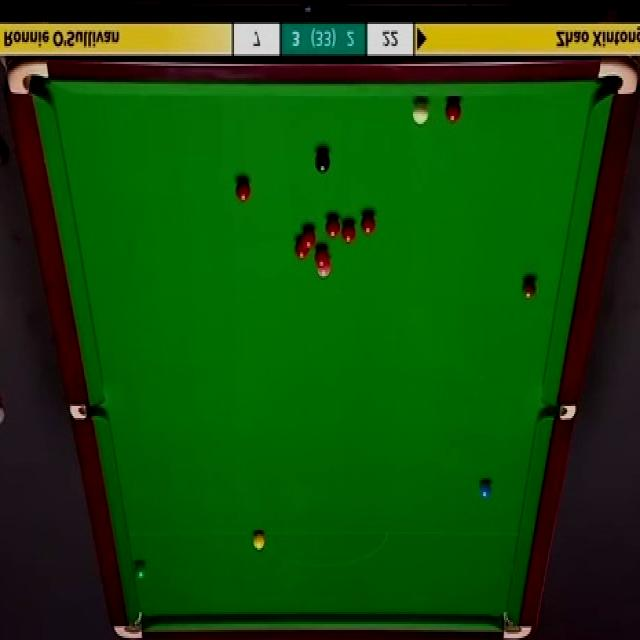pocket: (5, 58, 52, 97), (595, 58, 637, 97), (500, 608, 532, 640), (112, 611, 147, 640), (540, 403, 577, 422), (66, 403, 102, 422)
